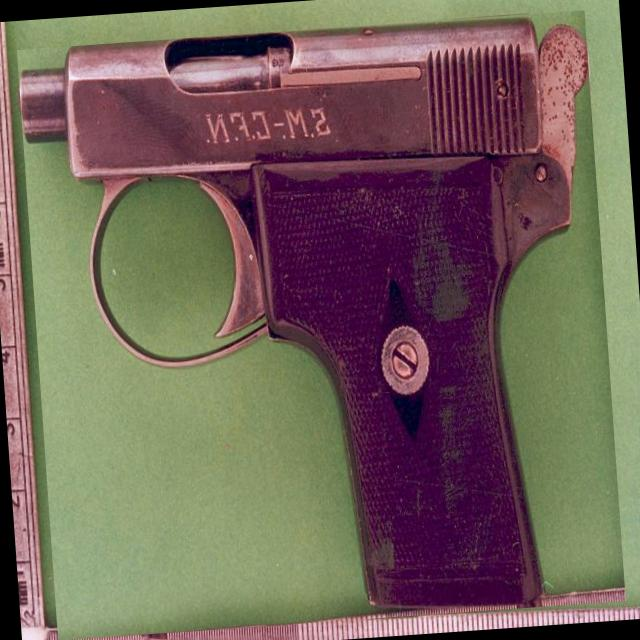Gun: (19, 20, 588, 608)
